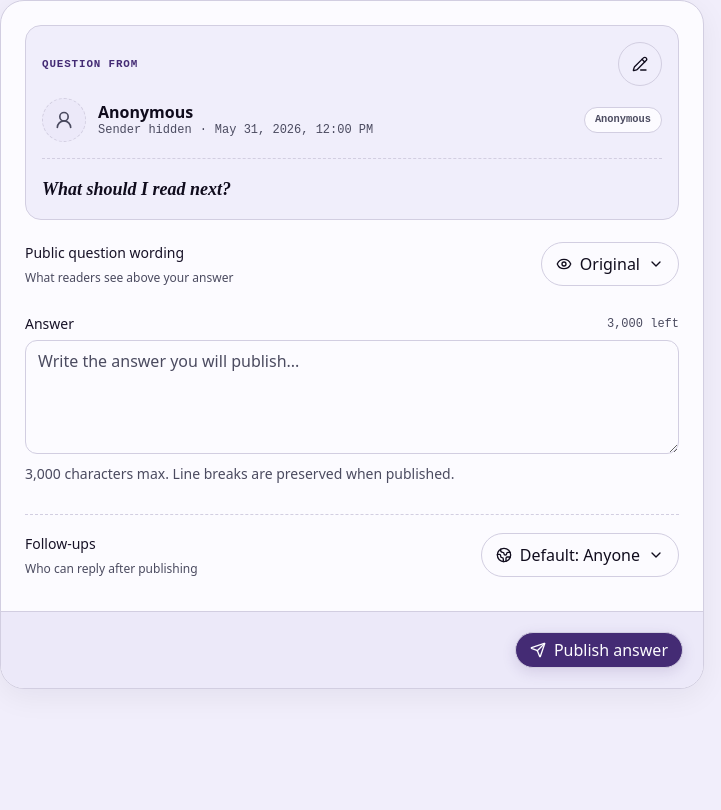
Test: AnswerEditor › cancels inline editing and restores the previous wording state
Click the button named "Edit public question wording". click: coordinates (640, 64)
box: x1=618 y1=42 x2=662 y2=86
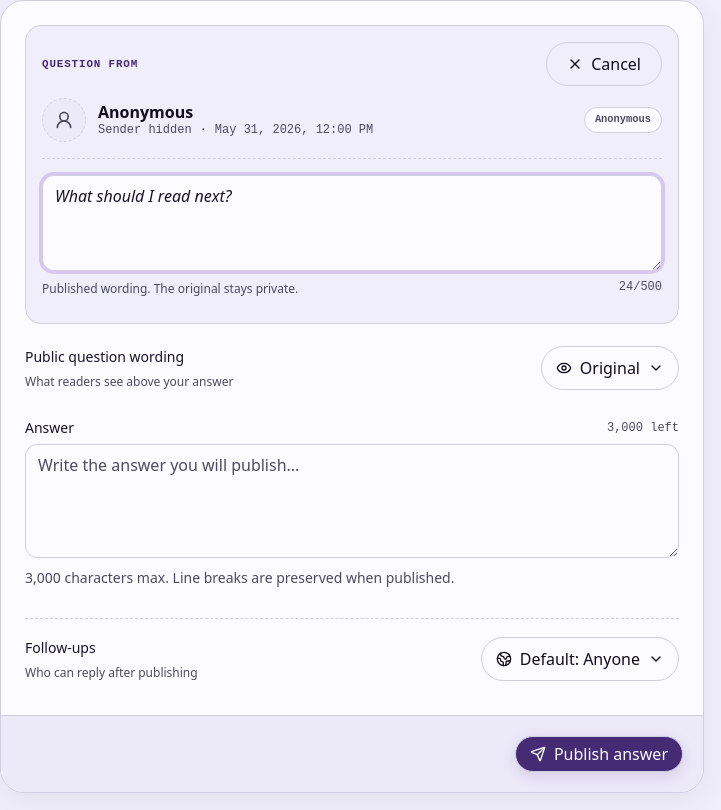
Replace the text in the text box named "Edited question" with "A change that should be discarded". click: coordinates (352, 223)
box: x1=42 y1=175 x2=662 y2=271
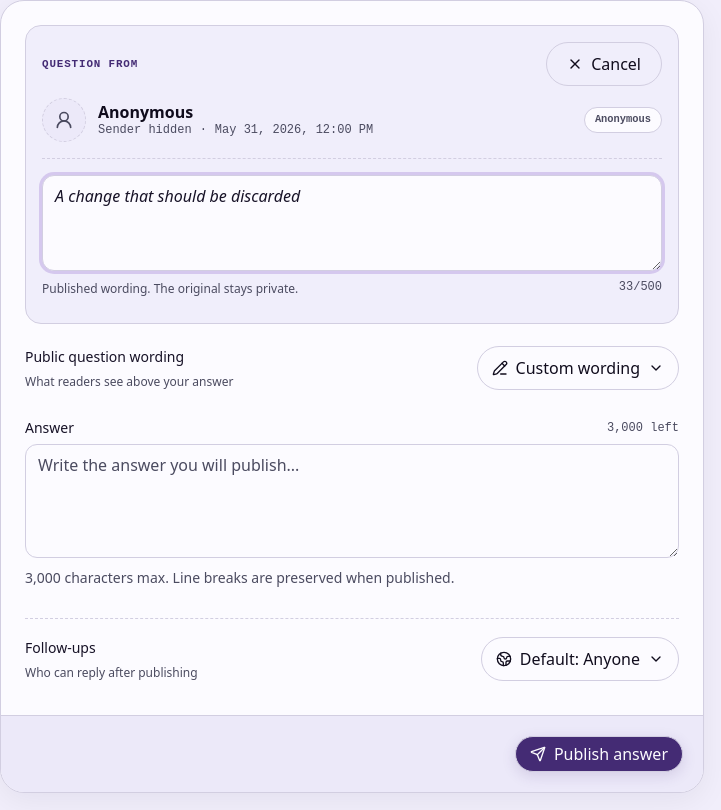
Click the button with aria-label "Cancel editing". click: coordinates (604, 64)
box: x1=546 y1=42 x2=662 y2=86
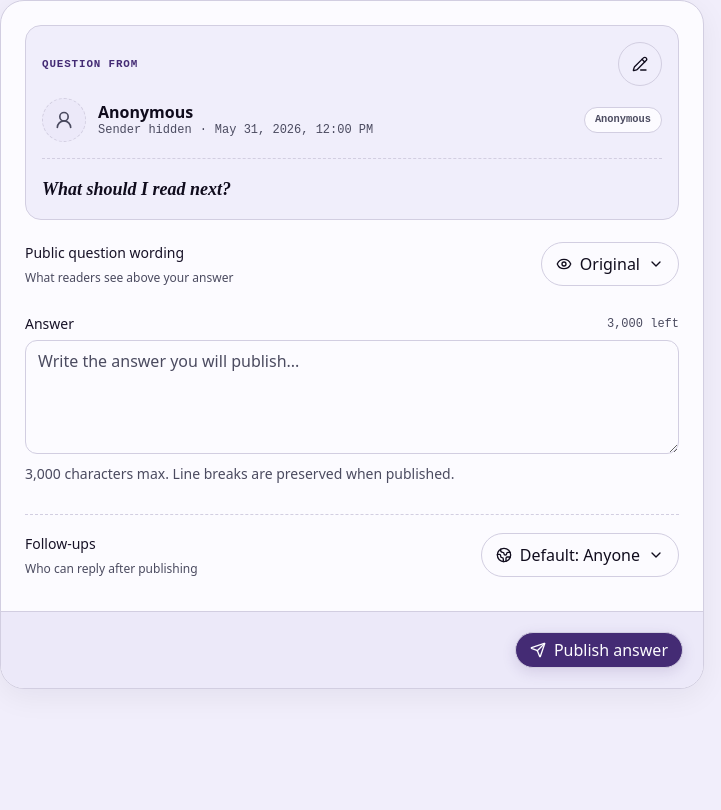
Expected: the field labelled "Edited question" is not shown
Expected: the button with aria-label "Public question wording: Original" is shown, x1=541 y1=242 x2=679 y2=286
